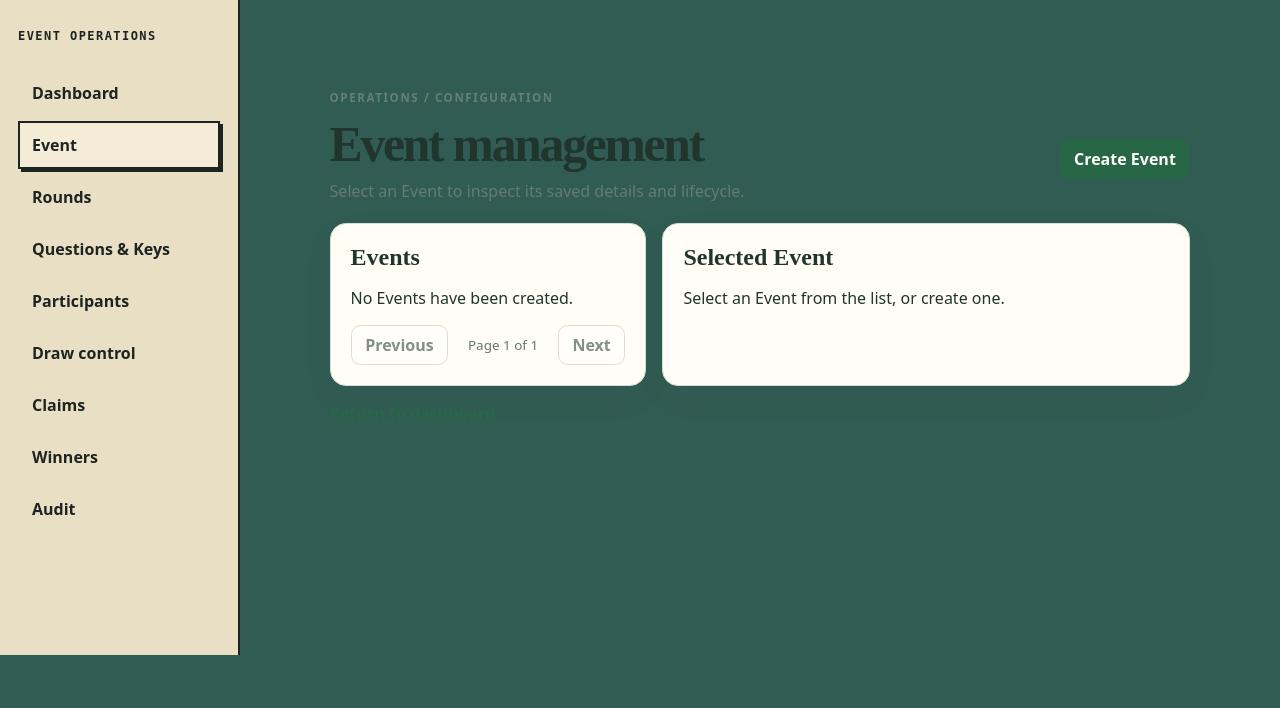
Admin Event management › refreshes the list and preserves the form after an ambiguous create timeout
This screenshot has width=1280, height=708.
Expected: the text "No Events have been created." is shown, left=351, top=287, right=573, bottom=309
Click the button "Create Event" at (1125, 159), box left=1059, top=139, right=1190, bottom=179
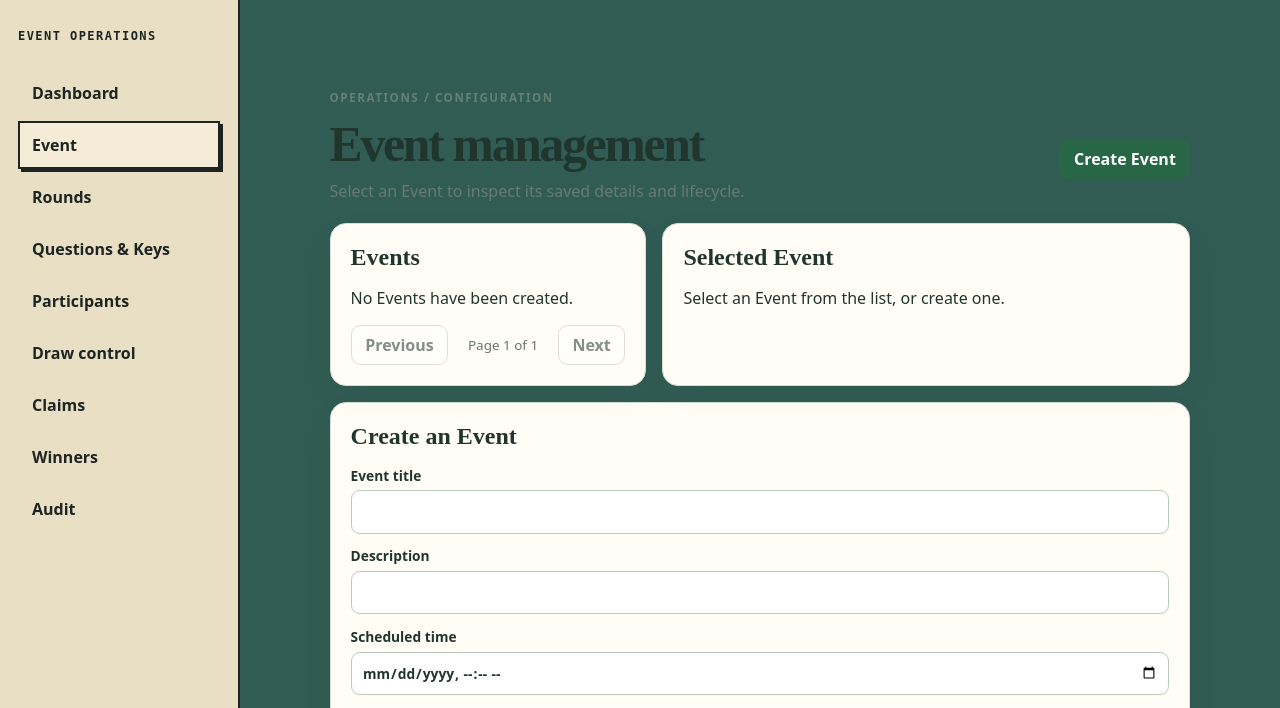
Type "Maybe committed" into the field labelled "Event title" at (760, 512), box left=351, top=490, right=1169, bottom=534
(page scrolled)
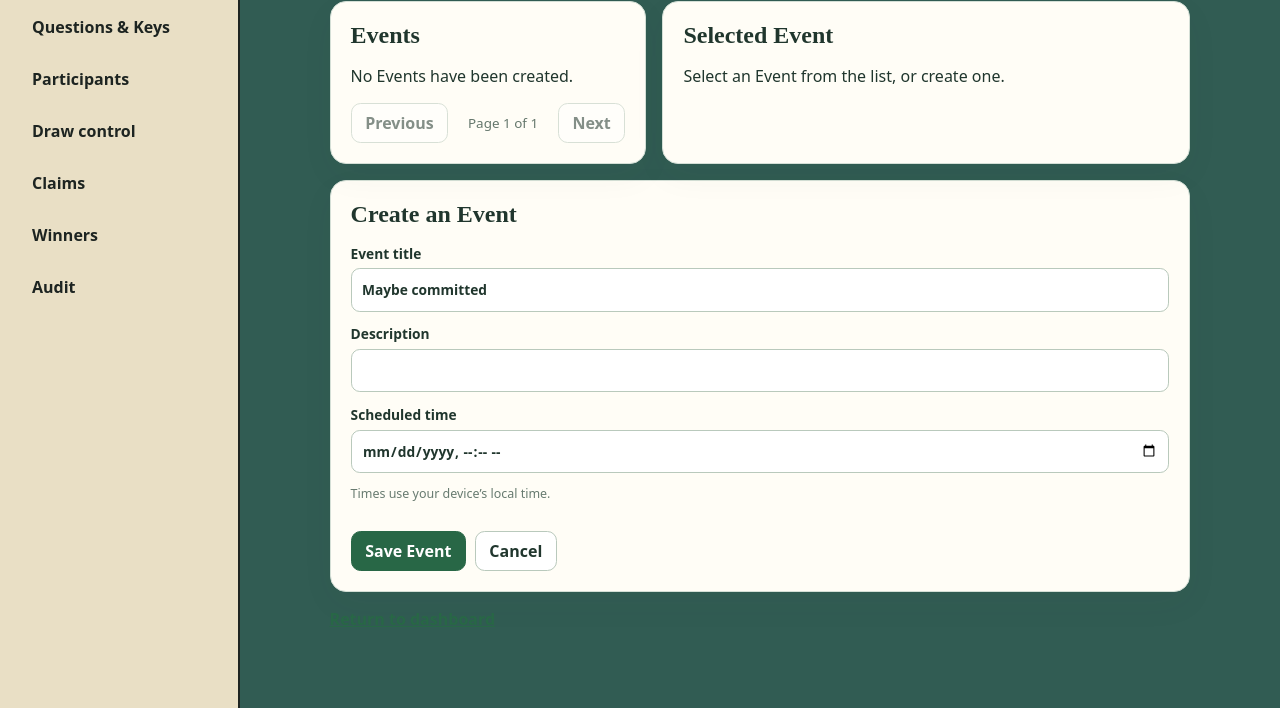
Click the button "Save Event" at (408, 551), box left=351, top=531, right=466, bottom=571
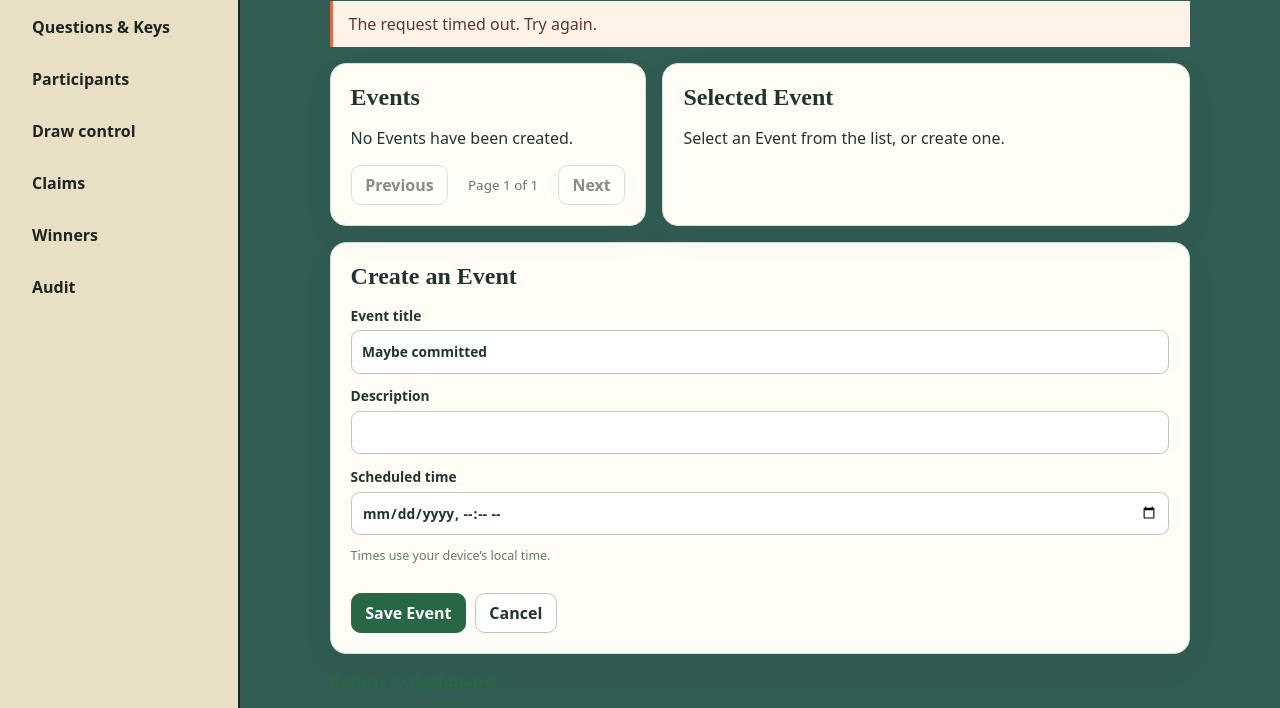
Expected: the text "The request timed out. Try again." is shown, left=330, top=1, right=1190, bottom=47
